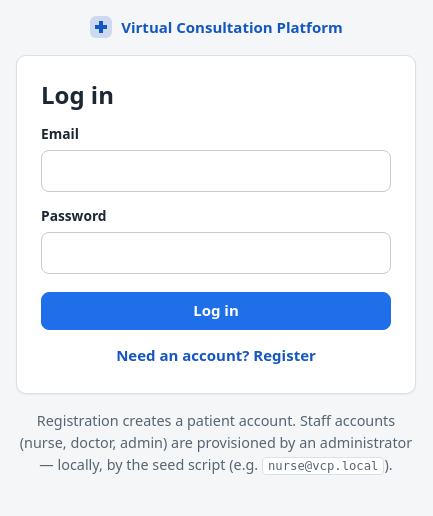
Test: Login screen › toggles to register mode
Click the button "Need an account? Register": (216, 356) [110,342,322,369]
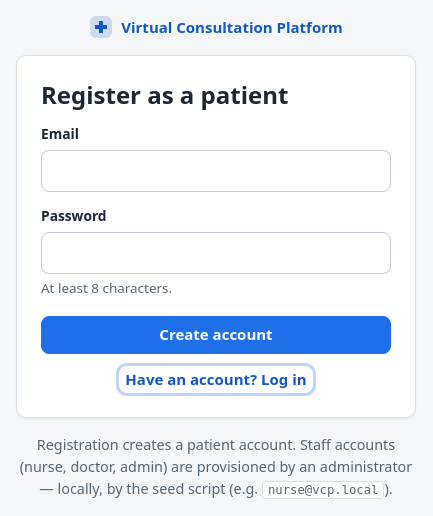
Now the heading "Register as a patient" is shown, box [41,78,288,111]
